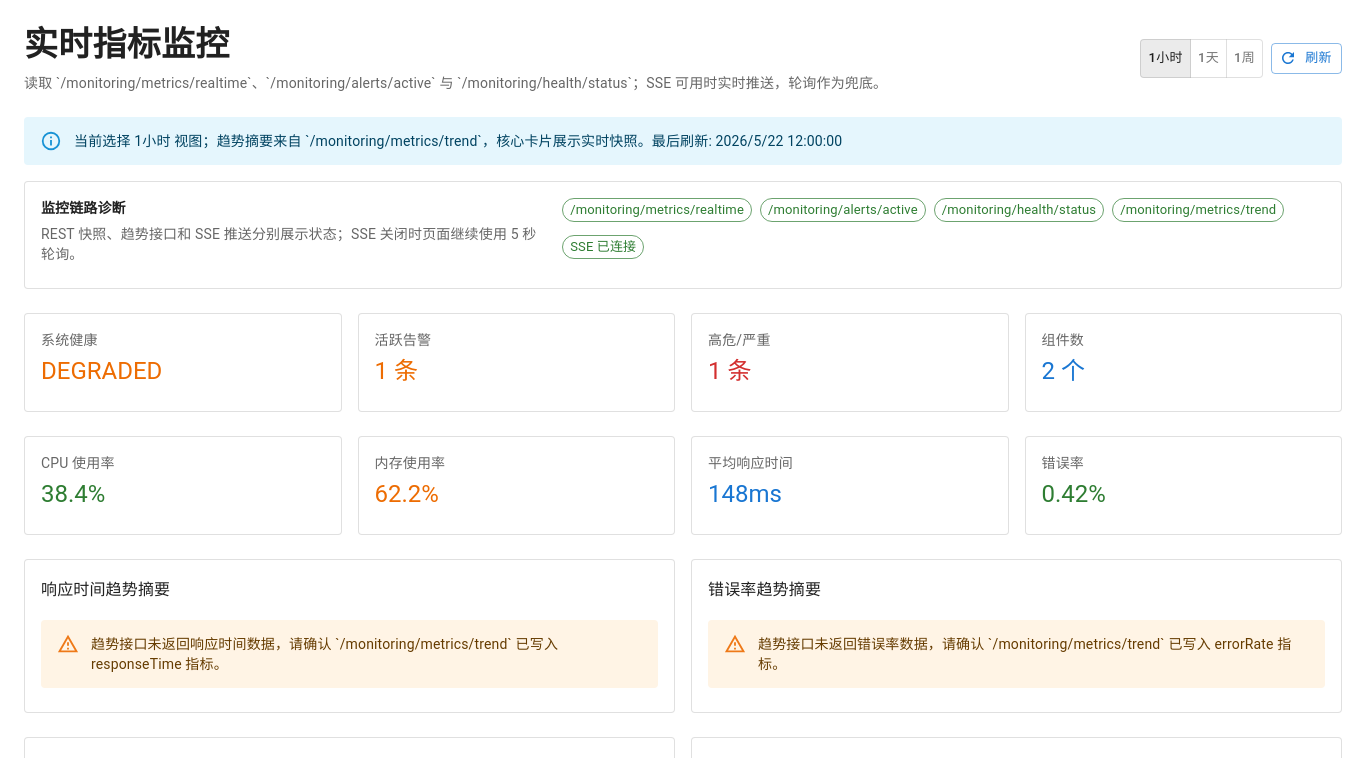
MetricsDashboard › loads real trend data when the time range changes and explains missing trend data
The width and height of the screenshot is (1366, 758).
expect the text "趋势接口未返回响应时间数据" is shown: met, box left=91, top=636, right=558, bottom=672
expect the text "趋势接口未返回错误率数据" is shown: met, box left=758, top=636, right=1291, bottom=672
Step 1. Click the button "1天" → point(1209, 58), box left=1190, top=39, right=1227, bottom=78
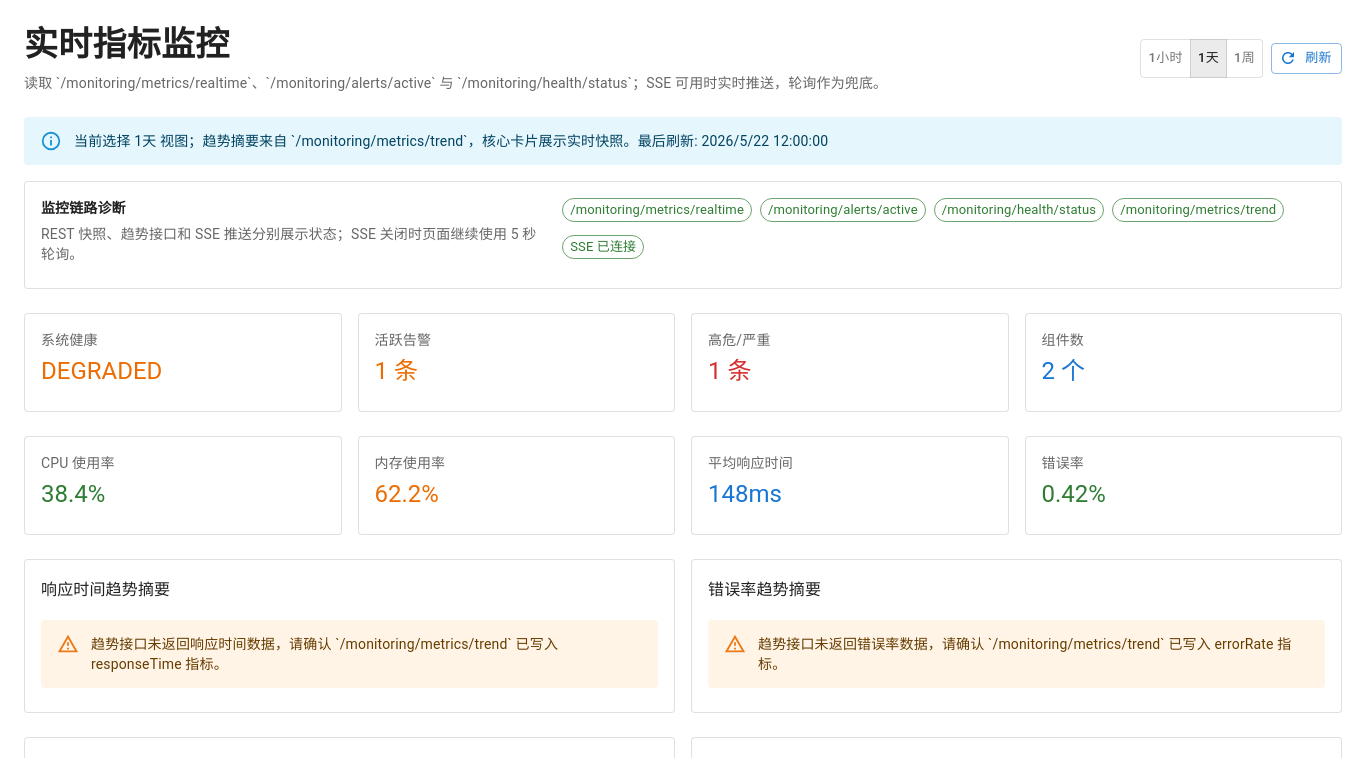
expect the text "当前选择 1天 视图" is shown: met, box left=74, top=133, right=828, bottom=149
